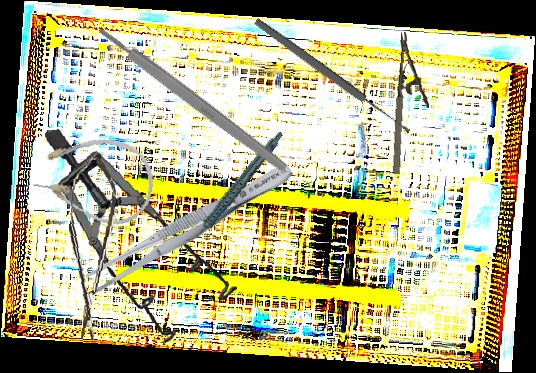Cannula: (28, 124, 161, 233)
Dressing Forceps: (83, 156, 298, 298)
Handpiece: (167, 131, 302, 245)
Micro Scissor: (59, 154, 120, 342)
Needle Holder: (388, 31, 436, 177)
Scalpel Handle: (96, 23, 289, 175)
Speculum: (44, 112, 243, 353)
Surgical Spoon: (252, 16, 413, 137)
